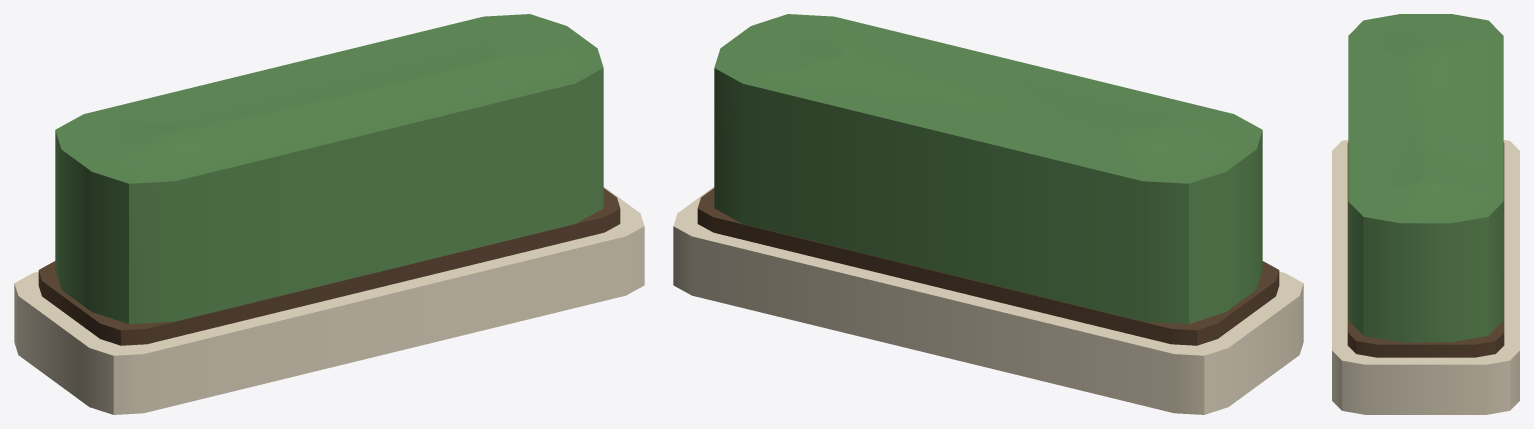
Rendered from hedge-block.glb.
The picture shows the model from 3 angles, left to right: view 1: azimuth 30°, elevation 25°; view 2: azimuth 150°, elevation 25°; view 3: azimuth 270°, elevation 25°; orthographic projection. The views are drawn at different scales.
Parts seen in each view (by area): view 1: hedge-block; view 2: hedge-block; view 3: hedge-block.
Boxes of the visible parts, <box> form: hedge-block: <box>14,14,644,414</box>; hedge-block: <box>673,14,1303,414</box>; hedge-block: <box>1332,14,1519,414</box>.
Size of the model in its own units: 4.48 by 1.7 by 1.56.
Materials: 2 (2 with a texture image).
